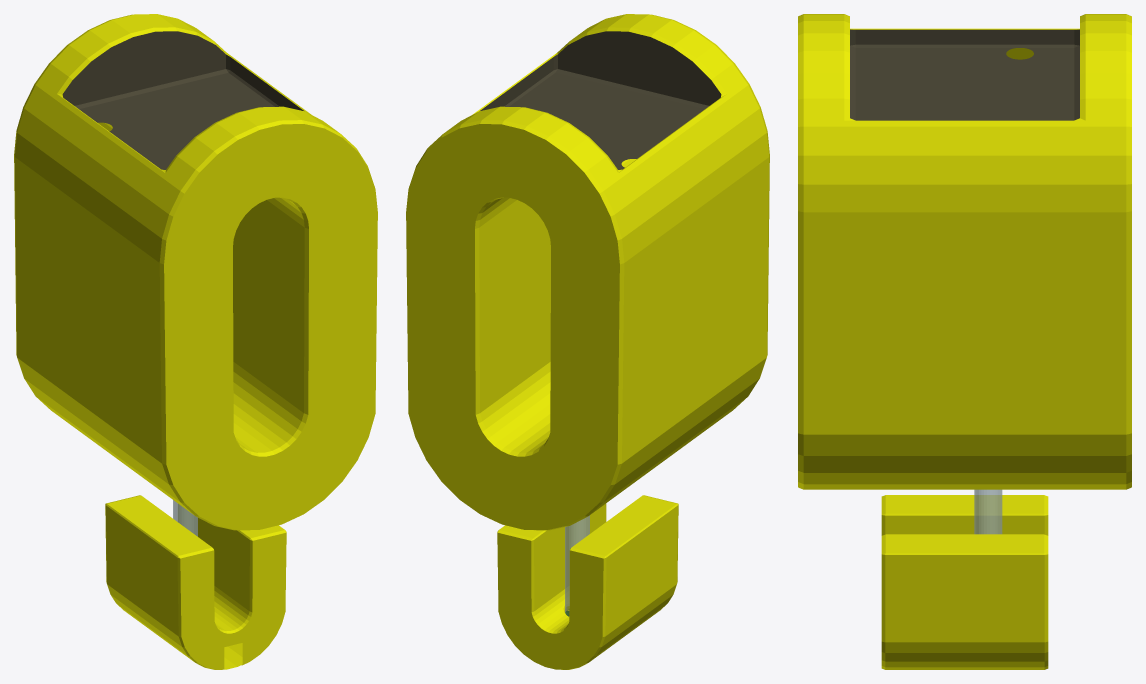
The model's file is obita_base_1.2.glb.
3 views of the same model, side by side, from view 1: azimuth 30°, elevation 25°; view 2: azimuth 150°, elevation 25°; view 3: azimuth 270°, elevation 25° (orthographic). The views are drawn at different scales.
Visible parts, largest first — view 1: O, u, club; view 2: O, u, club, lift; view 3: O, u, club, lift.
Boxes of the visible parts, bbox=[...] form: O: bbox=[14, 14, 377, 530]; u: bbox=[105, 495, 286, 669]; club: bbox=[62, 31, 303, 169]; O: bbox=[406, 14, 769, 530]; u: bbox=[497, 495, 678, 669]; club: bbox=[480, 31, 721, 169]; lift: bbox=[565, 515, 589, 616]; O: bbox=[798, 14, 1131, 489]; u: bbox=[881, 495, 1048, 669]; club: bbox=[850, 29, 1079, 120]; lift: bbox=[974, 489, 1002, 534].
Size of what is drawn, in the model's own units: 33.63 by 84.45 by 40.15.
